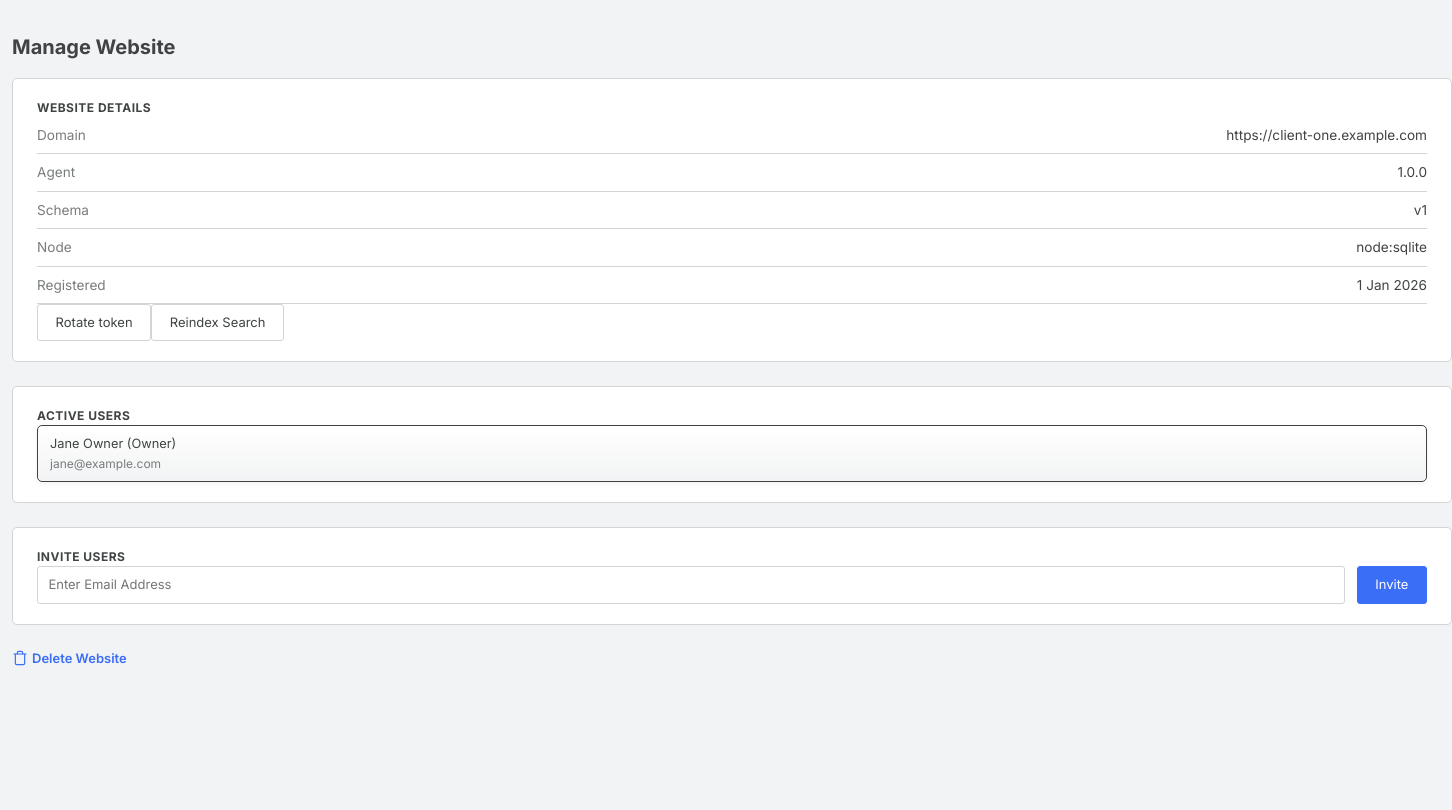
Test case: ManageSitePage › an address that fails is reported in the failure summary without blocking the others
Expected: the text "https://client-one.example.com" is shown, [1226,125,1427,145]
Type "good@example.com, already-invited@example.com" into the field named "Email addresses". click: (691, 585)
box: [37,566,1345,604]
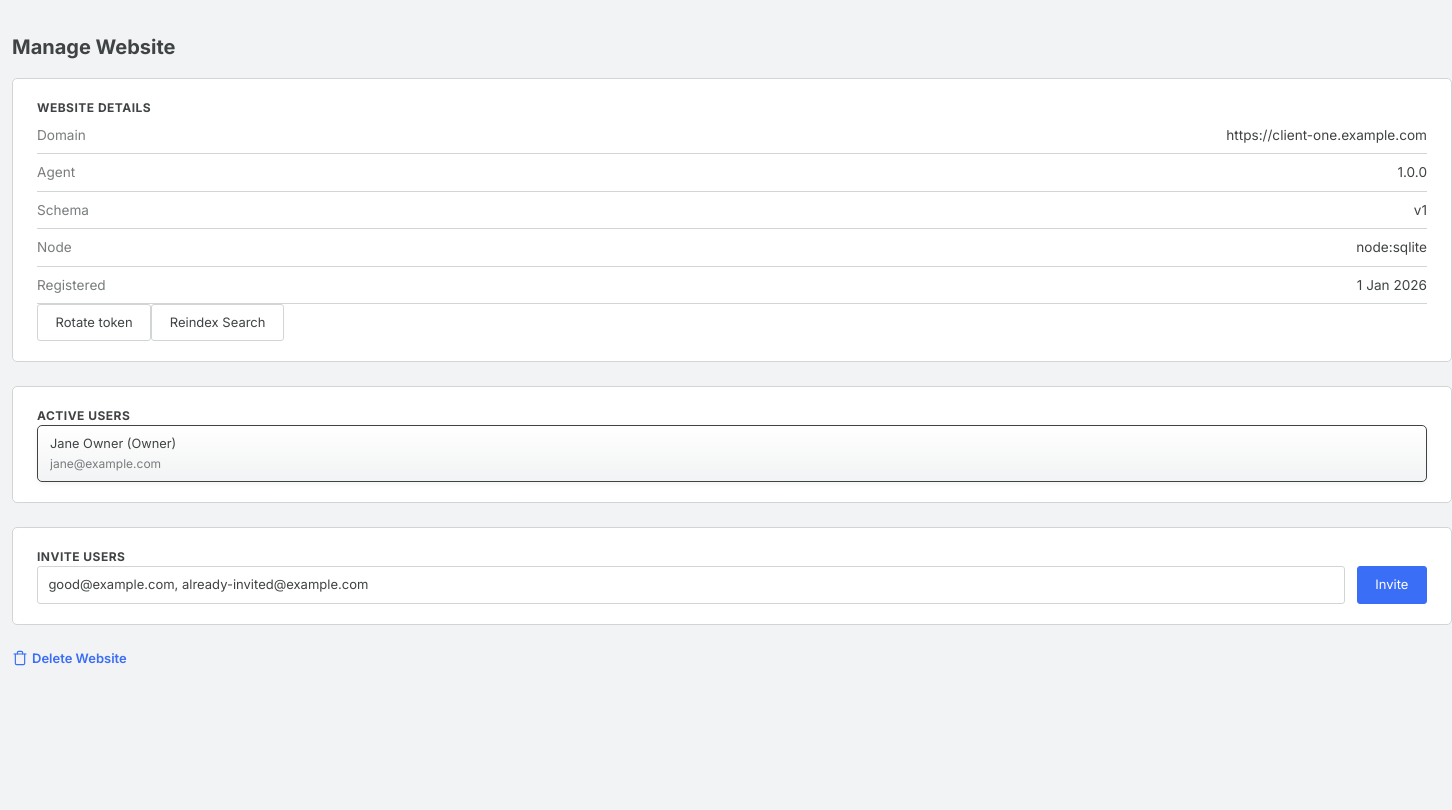
Click the button "Invite". click: (1392, 585)
box: [1357,566,1427,604]
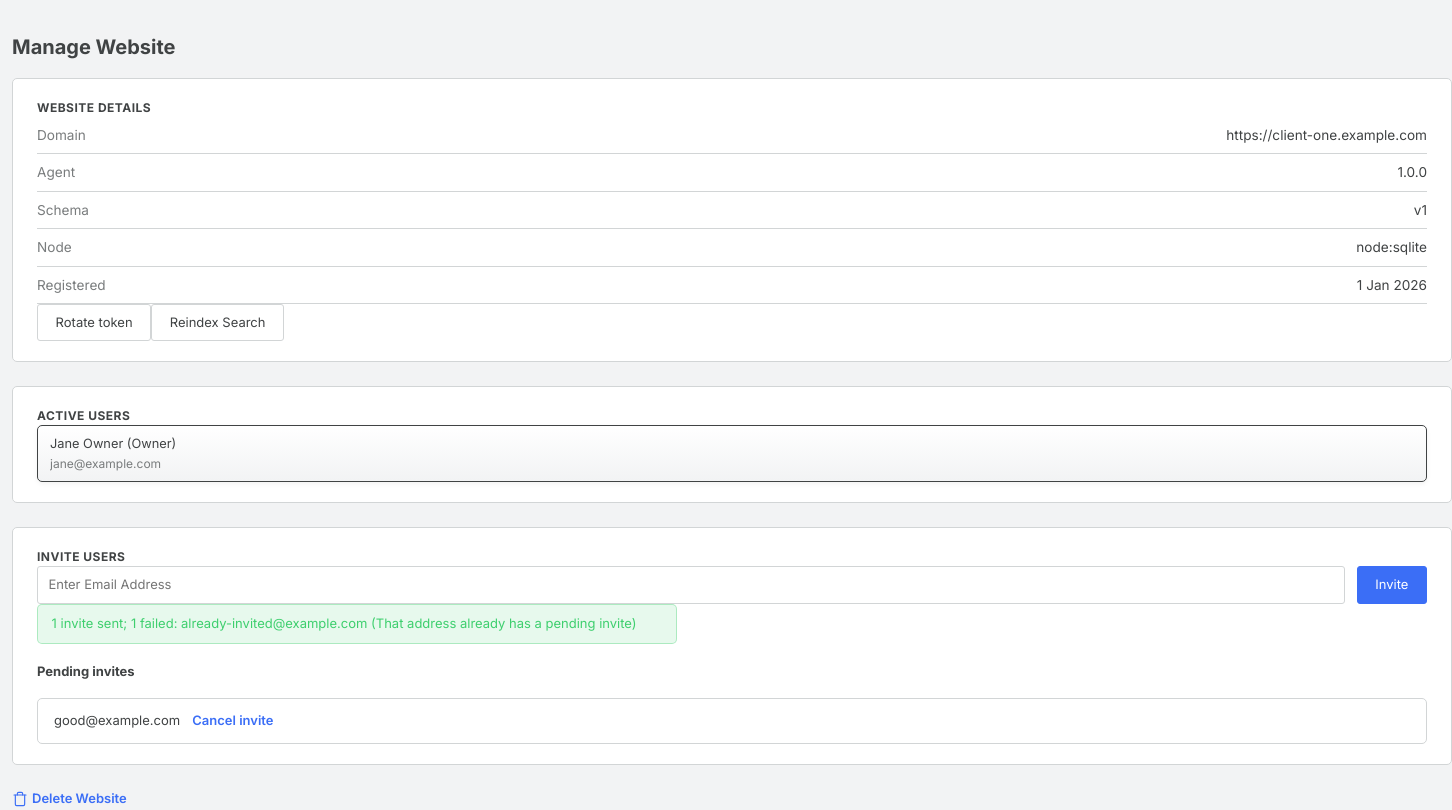
Expected: the text "1 invite sent; 1 failed: already-invited@example.com (That address already has a pending invite)" is shown, [52,615,637,631]
